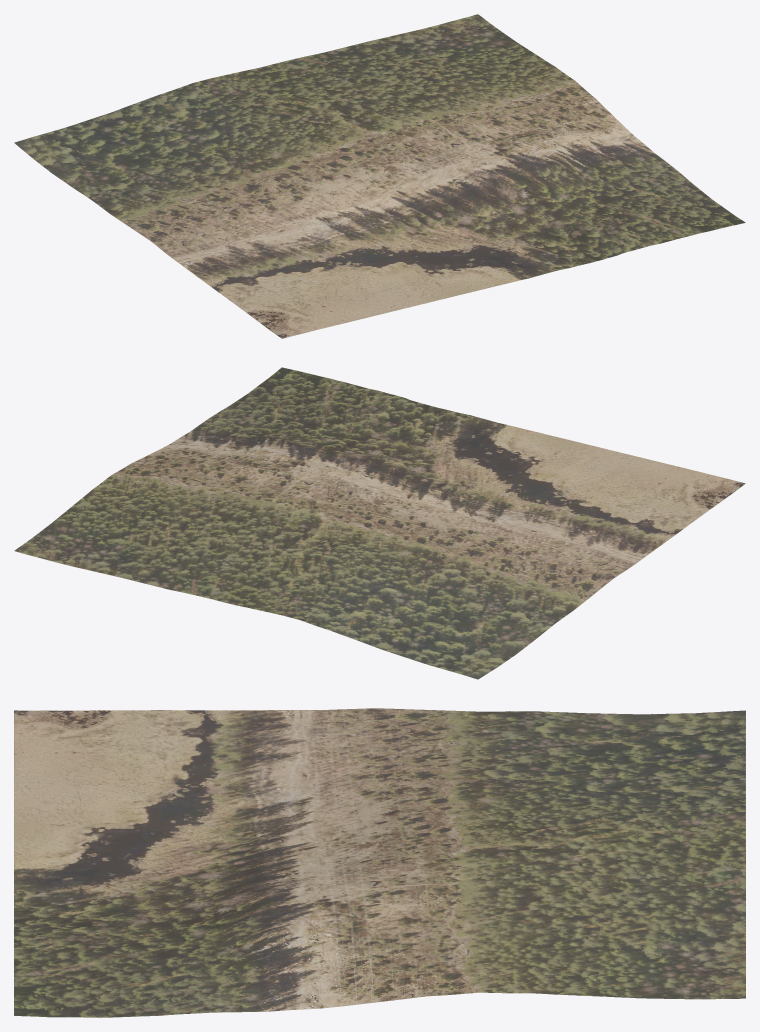
File: CM_Terrain_24493326_6816517.fbx
3 renders of one model, top to bottom at view 1: azimuth 30°, elevation 25°; view 2: azimuth 150°, elevation 25°; view 3: azimuth 270°, elevation 25°, orthographic. The views are drawn at different scales.
Parts seen in each view (by area): view 1: CM_Terrain_24493326_6816517_LOD0; view 2: CM_Terrain_24493326_6816517_LOD0; view 3: CM_Terrain_24493326_6816517_LOD0.
Part boxes in pixels (box(x1,y1,x2,y2)): CM_Terrain_24493326_6816517_LOD0: box(14, 14, 745, 338); CM_Terrain_24493326_6816517_LOD0: box(14, 367, 745, 679); CM_Terrain_24493326_6816517_LOD0: box(14, 708, 745, 1017).
Size of what is drawn, in the model's own units: 205 by 11.76 by 205.
